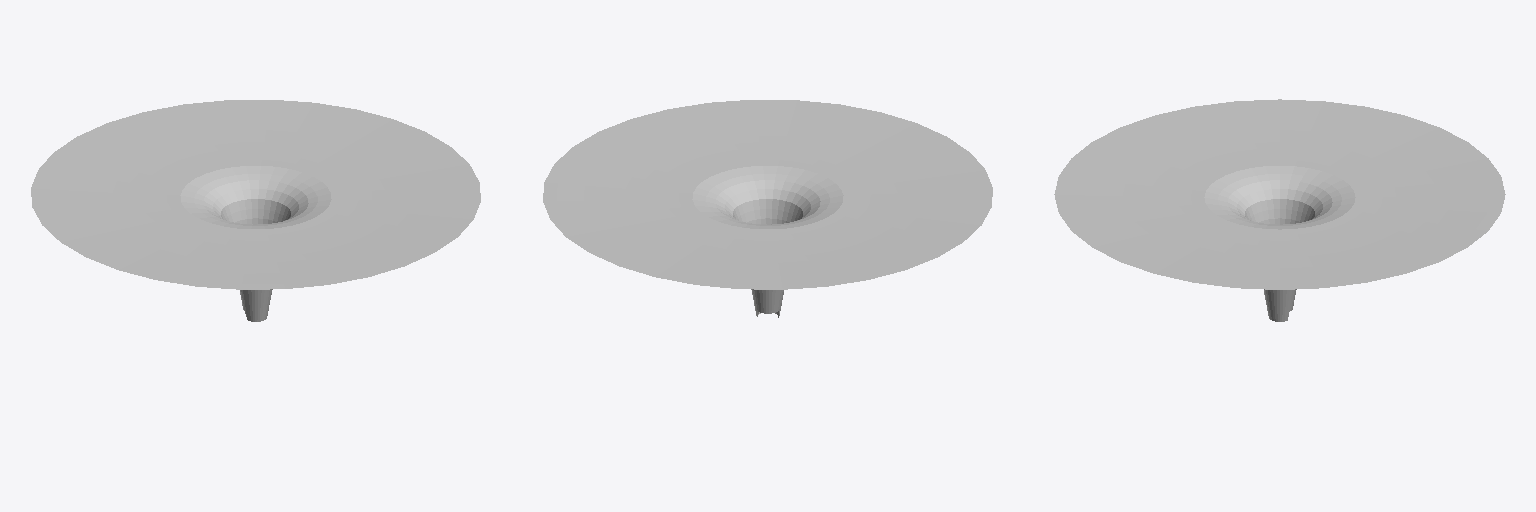
File: xvanwo.obj
3 renders of one model, left to right at view 1: azimuth 30°, elevation 25°; view 2: azimuth 150°, elevation 25°; view 3: azimuth 270°, elevation 25°, orthographic.
Parts seen in each view (by area): view 1: Cylinder; view 2: Cylinder; view 3: Cylinder.
Boxes of the visible parts, x1=… form: Cylinder: x1=31, y1=100, x2=480, y2=321; Cylinder: x1=543, y1=100, x2=992, y2=317; Cylinder: x1=1054, y1=99, x2=1505, y2=321.
Bounding box in the file's own units: 78.03 × 23.37 × 78.03.